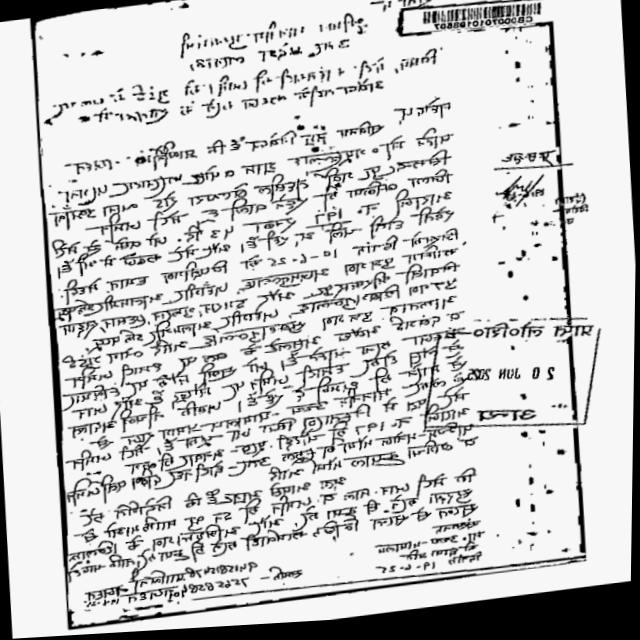antritgovtstamp: (414, 309, 619, 447)
barcode: (391, 0, 557, 40)
